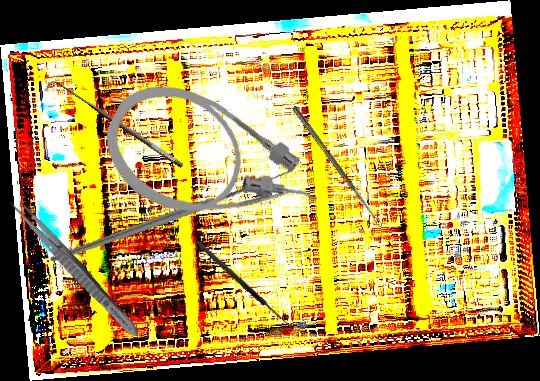Cannula: (87, 63, 335, 268)
Dressing Forceps: (4, 193, 146, 343)
Hook Surgical: (48, 118, 298, 301), (43, 73, 186, 179), (194, 235, 300, 331)
Surgical Spoon: (291, 105, 383, 229)
